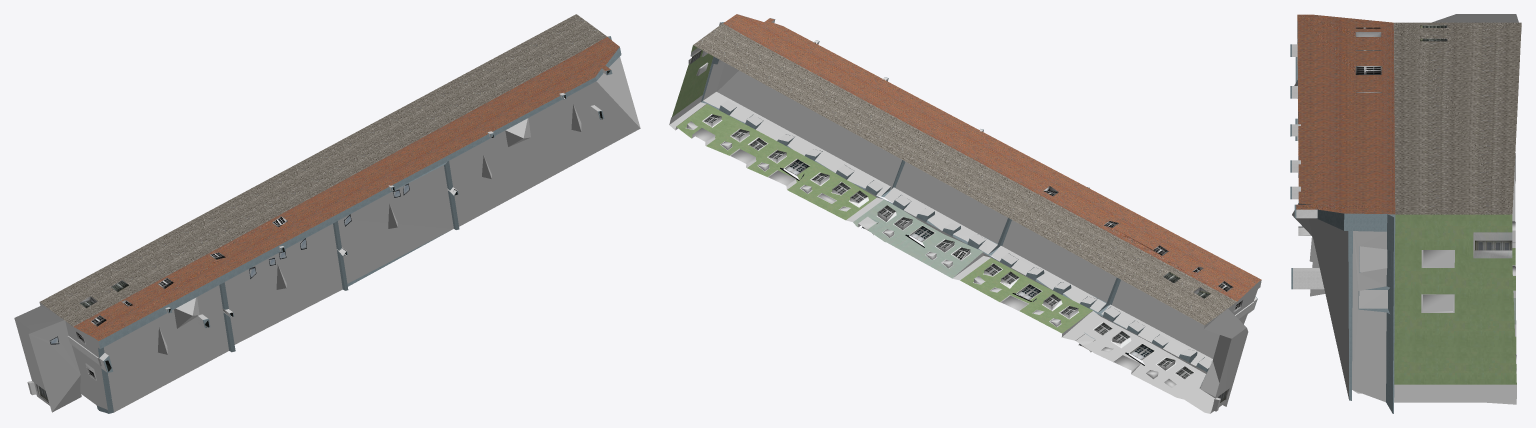
Rendered from Toompuiestee_20_1-origo.obj.
3 views of the same model, side by side, from view 1: azimuth 30°, elevation 25°; view 2: azimuth 150°, elevation 25°; view 3: azimuth 270°, elevation 25° (orthographic). The views are drawn at different scales.
Visible parts, largest first — view 1: Toompuiestee_20; view 2: Toompuiestee_20; view 3: Toompuiestee_20.
Part boxes in pixels (bbox=[...]): Toompuiestee_20: bbox=[14, 14, 640, 413]; Toompuiestee_20: bbox=[669, 14, 1261, 413]; Toompuiestee_20: bbox=[1290, 14, 1521, 413].
Size of the model in its own units: 73.56 by 30.5 by 13.22.
